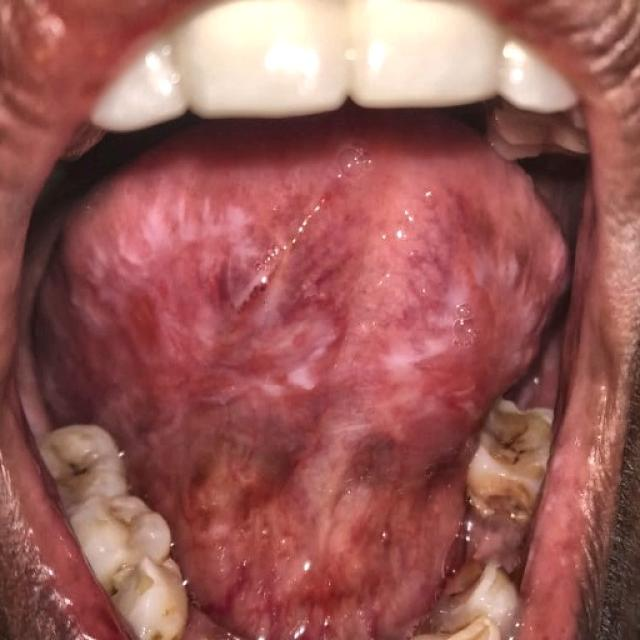leukoplakia-like-detection: (55, 185, 556, 556)
processing_area: (44, 141, 586, 639)
